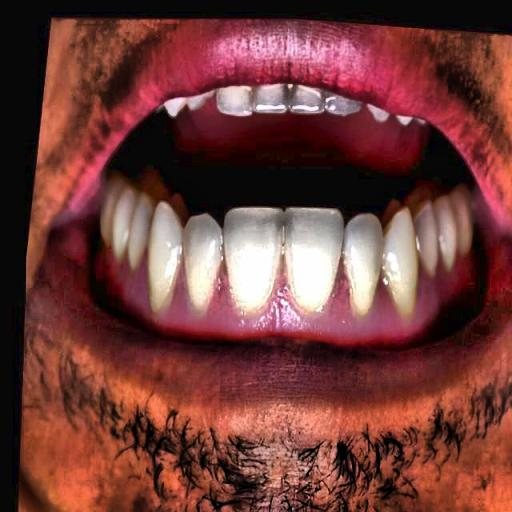Healthy: (77, 51, 502, 338)
